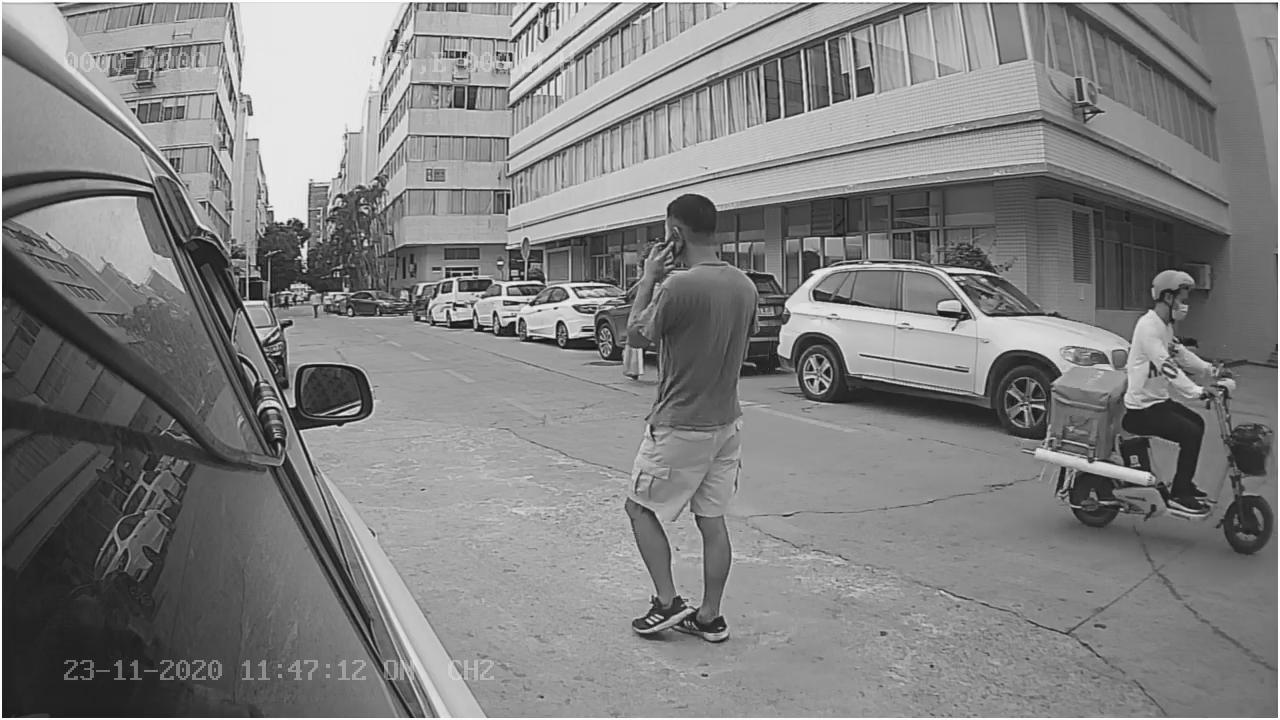person: (626, 189, 758, 643), (1117, 254, 1220, 395)
